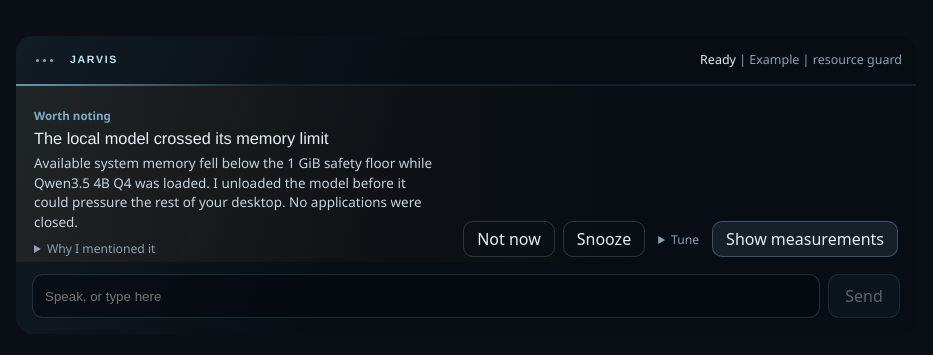
Test: reproducible interface media › shows a useful proactive resource intervention grounded in a measured event
Expected: the heading "The local model crossed its memory limit" is shown, 34,130 -> 329,148
Expected: the text "No applications were closed" is shown, 34,154 -> 432,231
What coordinates should you click on to do the following:
click the heading "Why I mentioned it"
I would click on:
 (95, 249)
Its box is 34,240 -> 156,257.
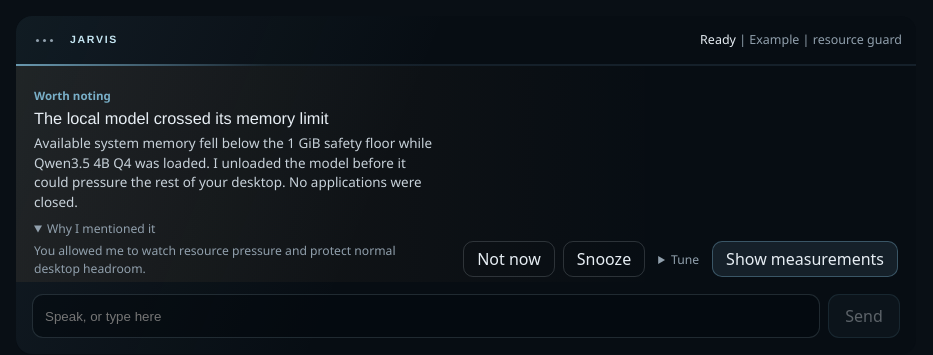
Expected: the text "protect normal desktop headroom" is shown, 34,242 -> 396,277
